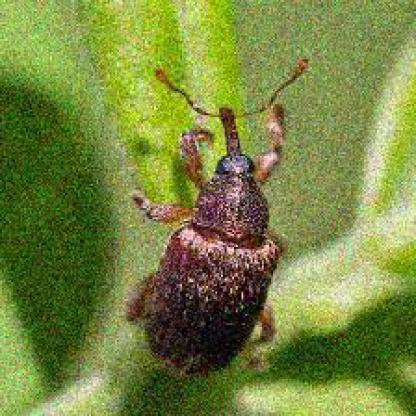ash weevil: (125, 107, 285, 382)
